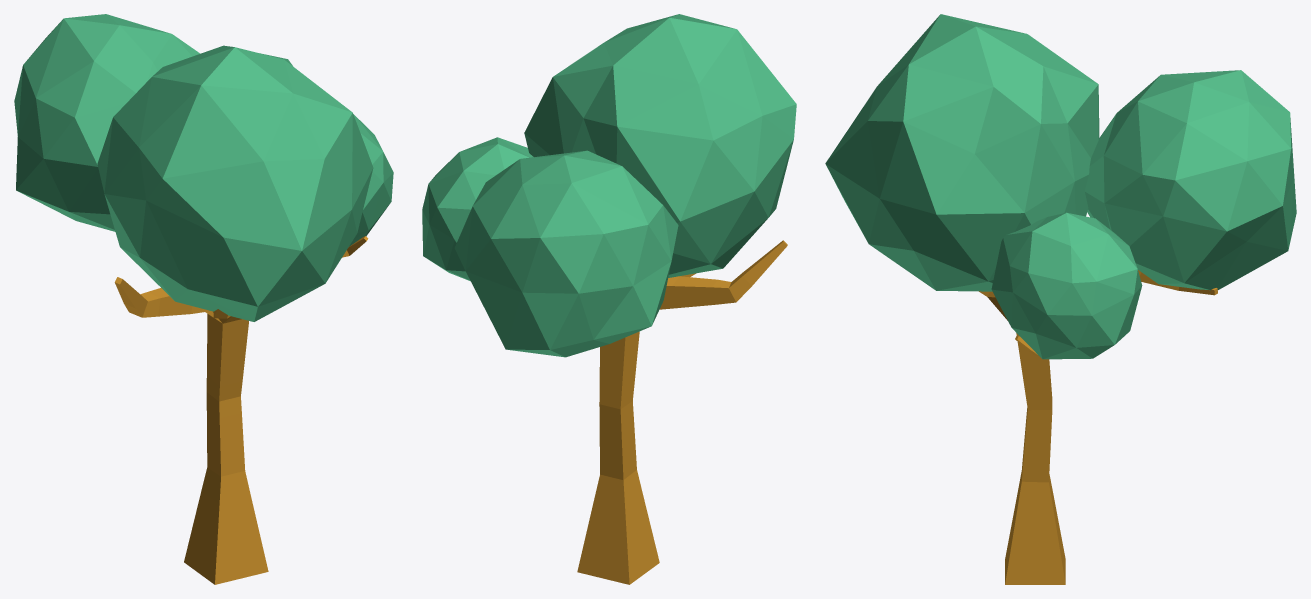
Rendered from Tree Low Poly 1.fbx.
3 views of the same model, side by side, from view 1: azimuth 30°, elevation 25°; view 2: azimuth 150°, elevation 25°; view 3: azimuth 270°, elevation 25° (orthographic). The views are drawn at different scales.
Parts seen in each view (by area): view 1: Icosphere.005, Icosphere.004, Plane, Icosphere.003; view 2: Icosphere.005, Icosphere.004, Plane, Icosphere.003; view 3: Icosphere.005, Icosphere.004, Icosphere.003, Plane.
Boxes of the visible parts, x1,y1,x2,y2 form: Icosphere.005: [97, 45, 373, 321]; Icosphere.004: [14, 14, 200, 231]; Plane: [114, 236, 368, 584]; Icosphere.003: [349, 114, 393, 246]; Icosphere.005: [524, 14, 796, 277]; Icosphere.004: [454, 150, 678, 357]; Plane: [577, 240, 787, 584]; Icosphere.003: [422, 137, 533, 281]; Icosphere.005: [825, 14, 1099, 291]; Icosphere.004: [1084, 70, 1296, 290]; Icosphere.003: [991, 212, 1142, 359]; Plane: [979, 270, 1217, 584].
Size of the model in its own units: 487 by 807 by 644.
